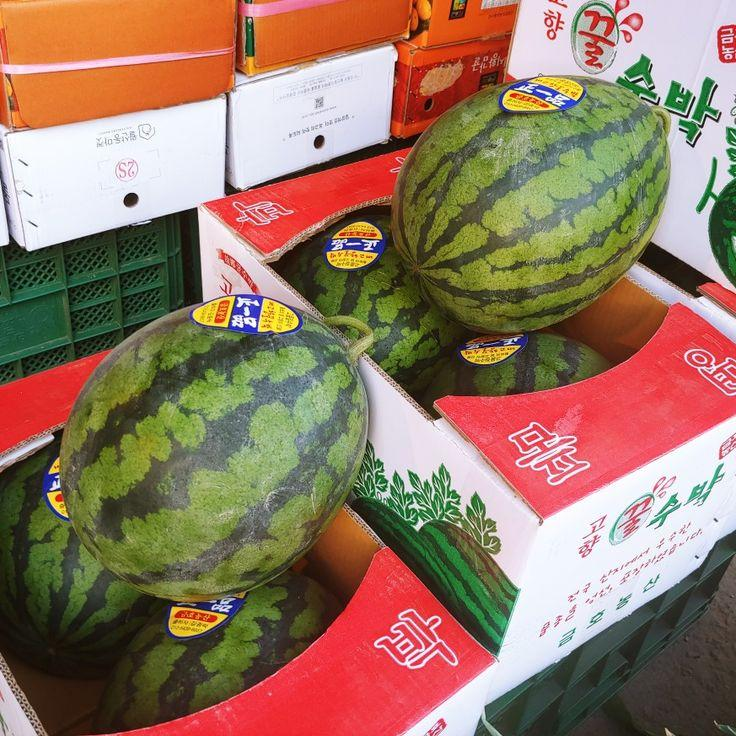watermelon: (57, 292, 371, 602), (388, 72, 671, 335), (92, 570, 344, 734), (0, 432, 154, 678), (272, 202, 464, 392), (415, 329, 612, 419)
